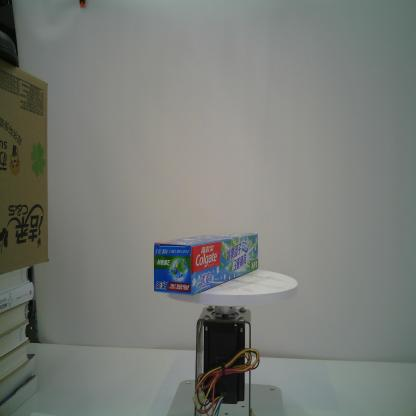Personal Hygiene: (153, 231, 260, 297)
